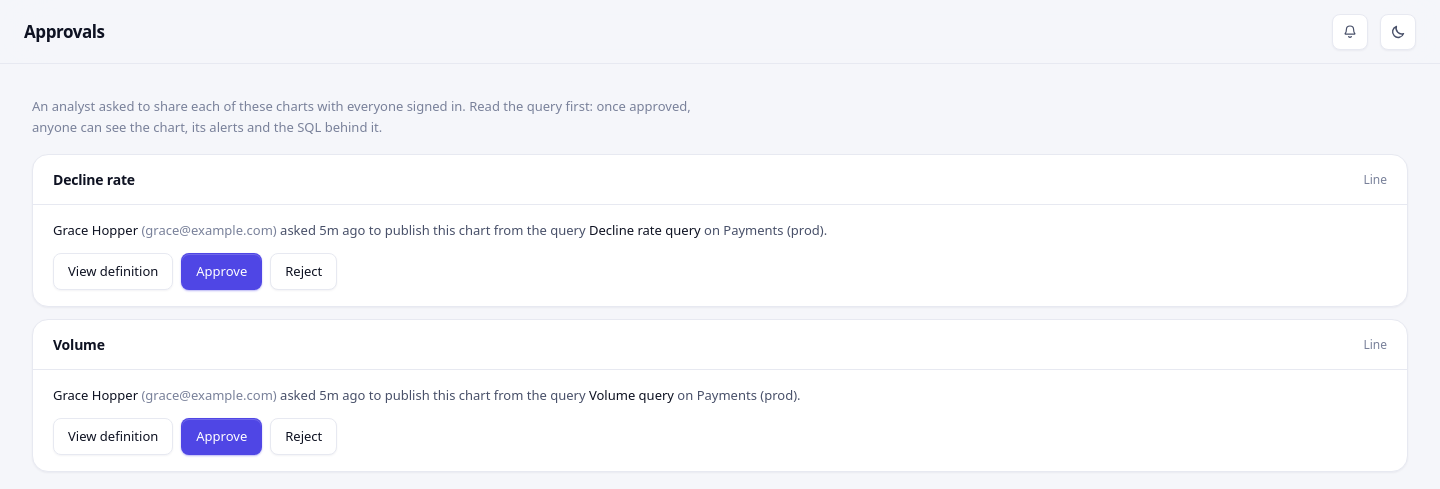
Test: for an administrator › shows the engine's reason and re-reads when somebody else decided first
What coordinates should you click on to do the following:
click the 1st button "Approve"
I would click on:
 (222, 272)
Its box is [181,253,262,290].
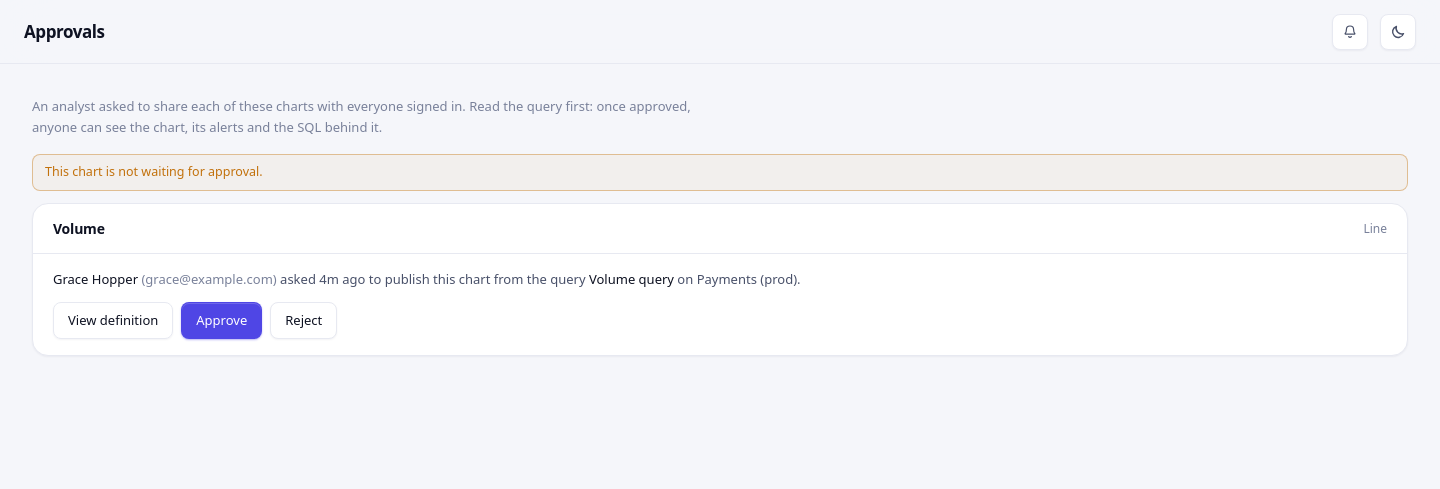
Expected: the heading "Decline rate" is gone
Expected: the message shows "not waiting for approval", [45,163,263,180]
